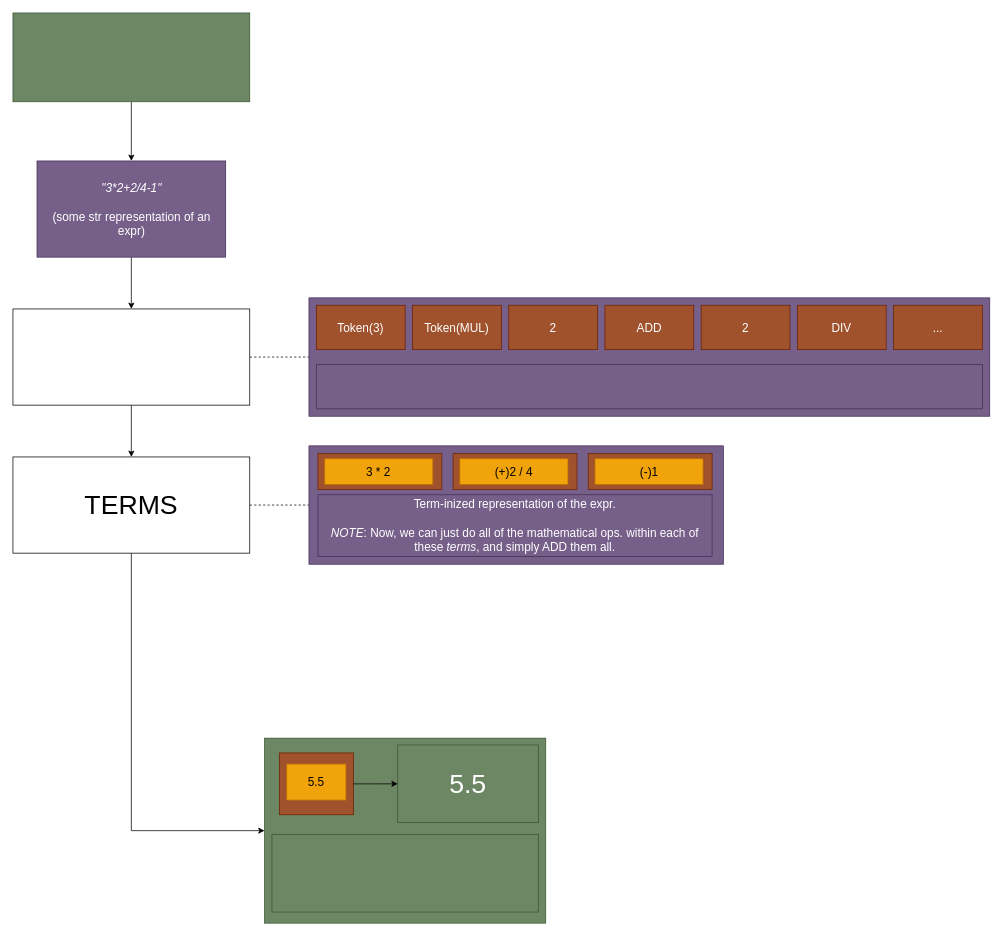
Some shapes in this 1003 by 936 pixel diagram are drawn without their labels. The centre of each missing label's shape, as x and y in pixels:
"HUMAN INPUT" belongs at pixel 131 57.
"The string representation of the addition of all terms." belongs at pixel 404 873.
"Tokenized representation of the expr." belongs at pixel 649 386.
"TOKENS" belongs at pixel 131 356.
